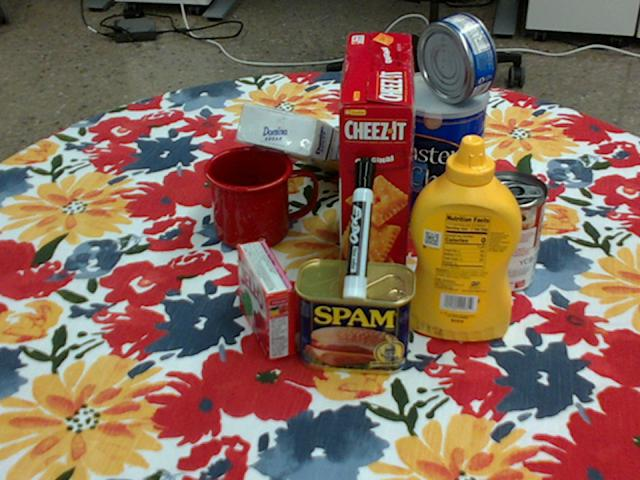cracker_box: (338, 33, 416, 308)
gelatin_box: (238, 238, 296, 359)
large_marker: (344, 155, 375, 299)
master_chef_can: (387, 71, 488, 229)
mug: (205, 145, 318, 250)
mustard_bottle: (406, 134, 522, 342)
potted_meat_can: (295, 258, 417, 374)
sugar_box: (237, 104, 376, 178)
tomato_soup_can: (468, 171, 547, 293)
tuna_fish_can: (416, 13, 496, 103)
